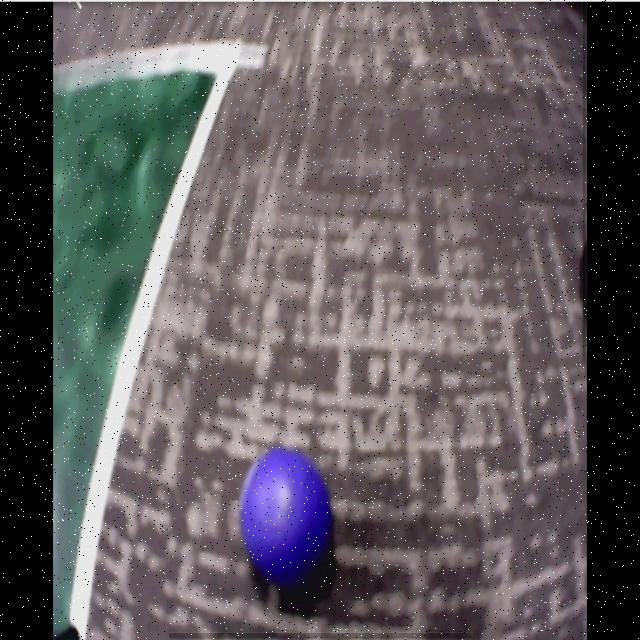ball: (240, 450, 332, 580)
